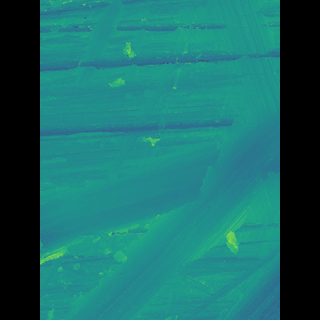Loch: (71, 112, 250, 319)
